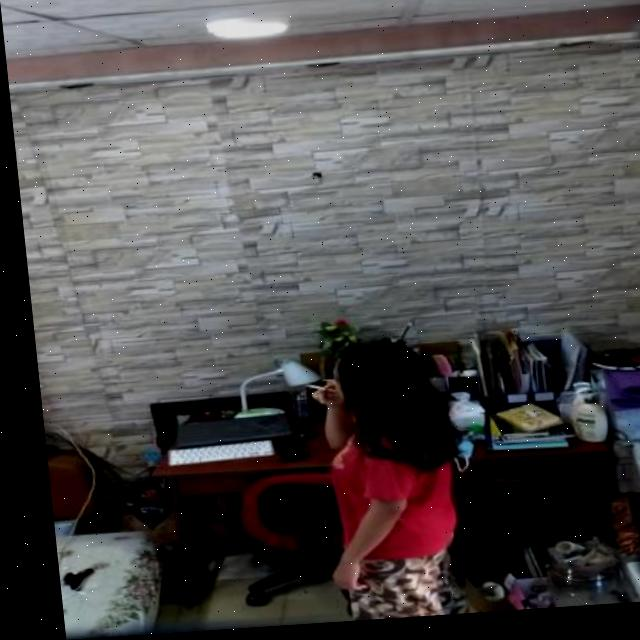cigarette: (296, 387, 327, 398)
